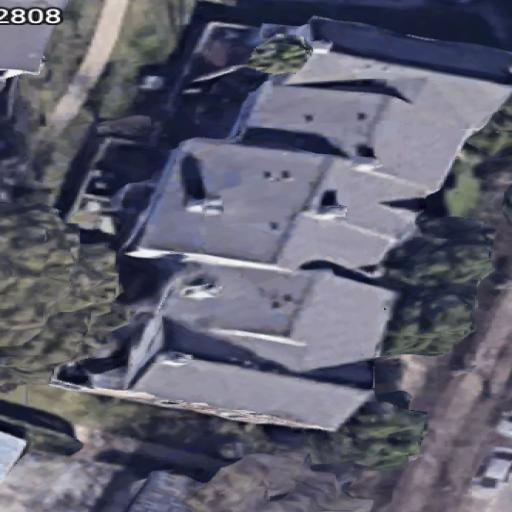Building-Roof: (89, 16, 512, 434)
